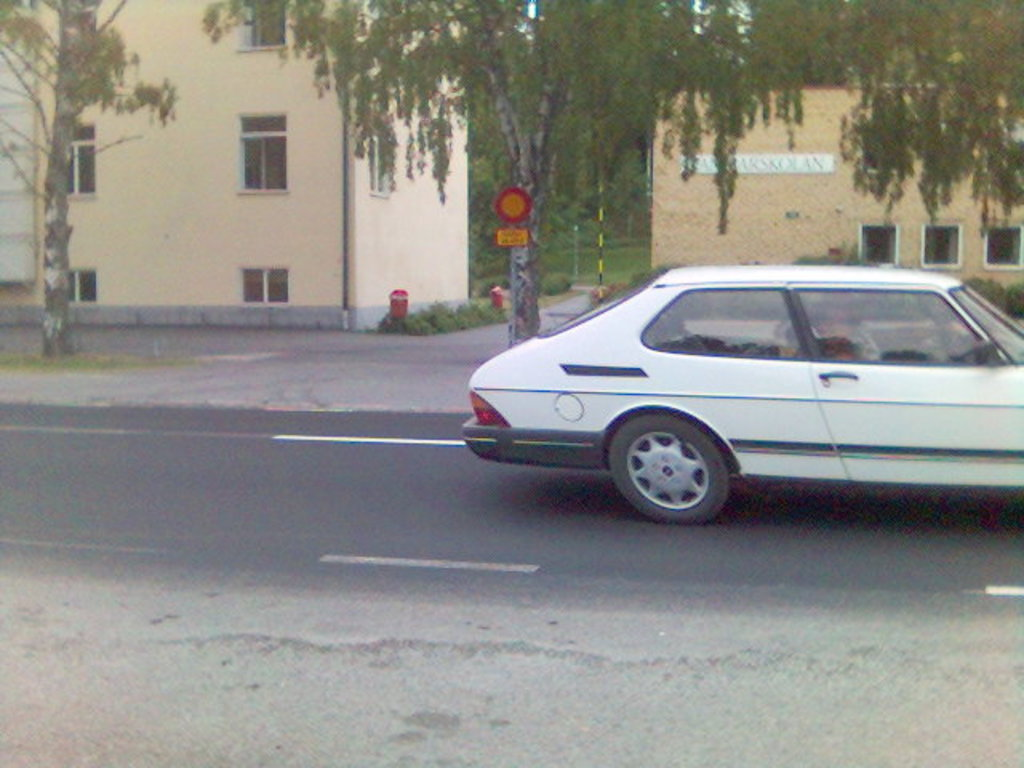Car: (457, 264, 1024, 532)
